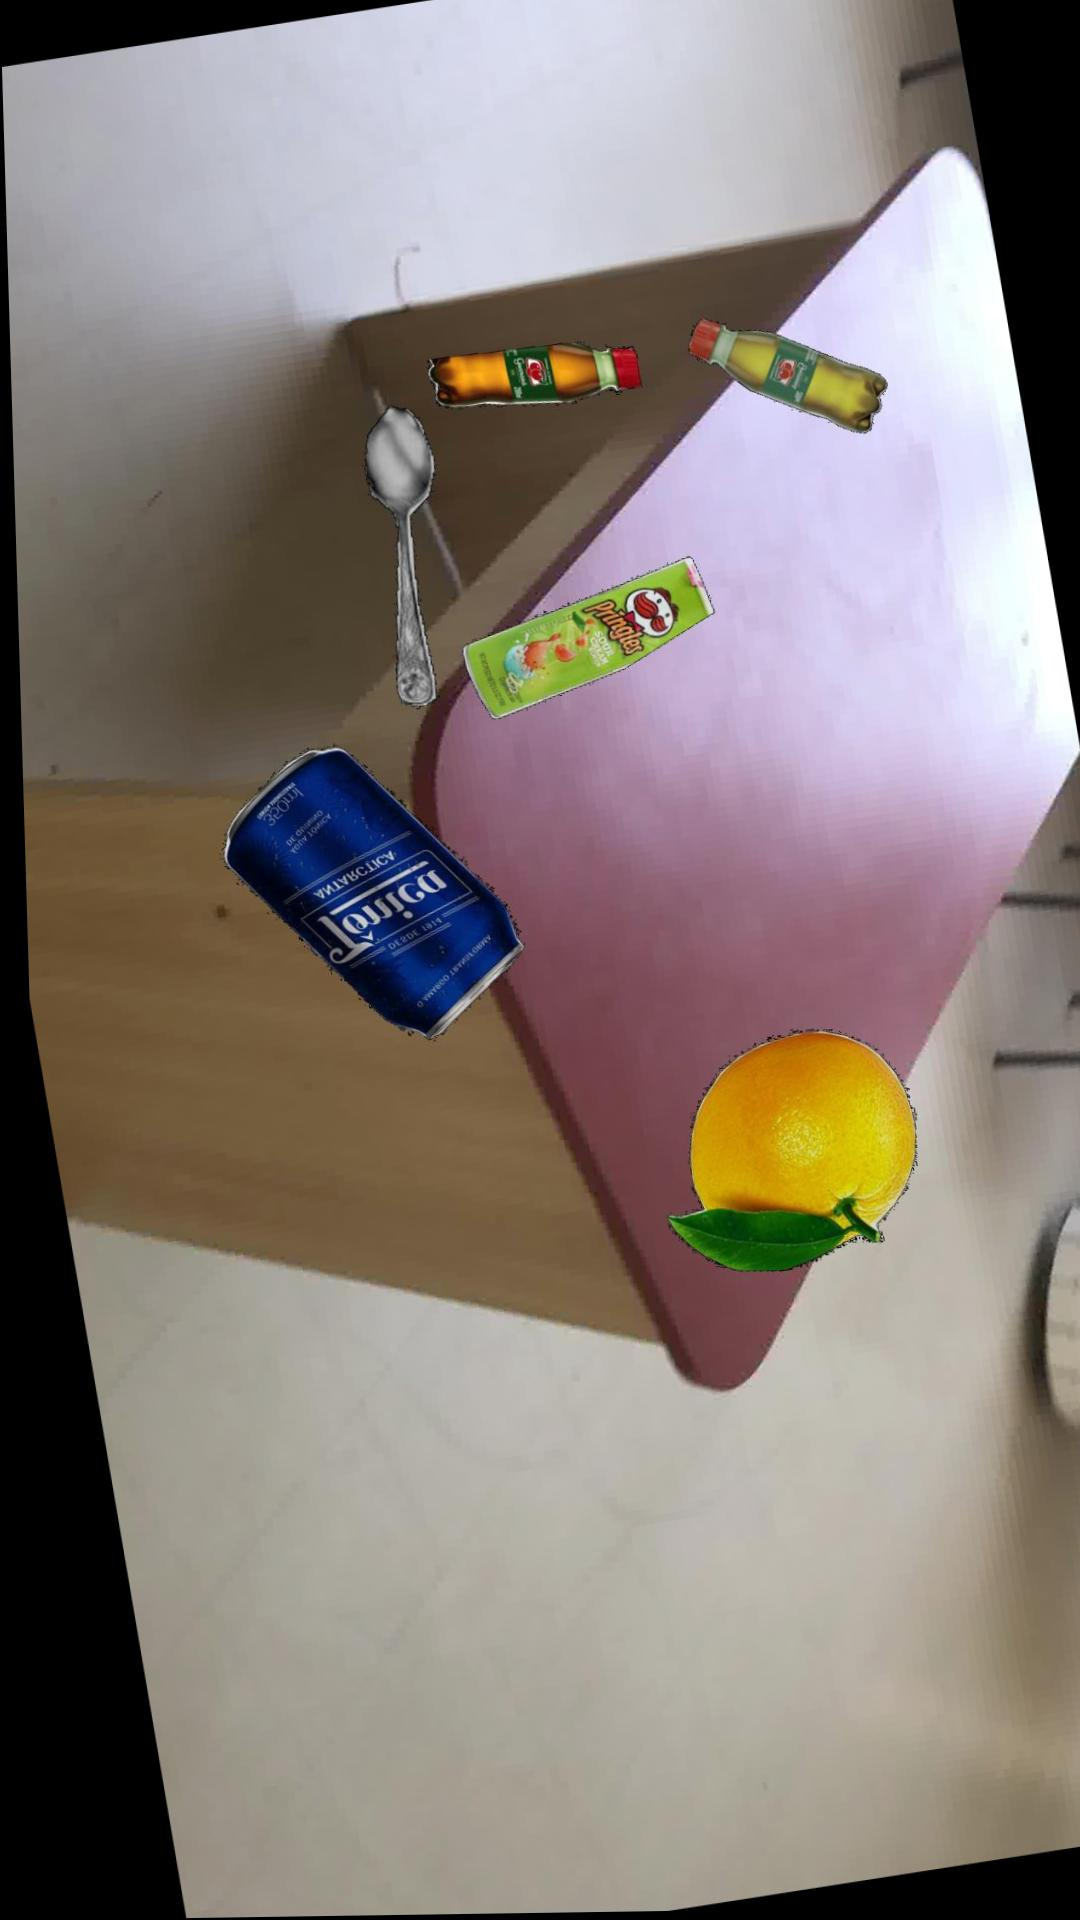guarana: (684, 319, 884, 434), (423, 342, 637, 407)
orange: (658, 1030, 909, 1273)
pringles: (456, 556, 709, 719)
spoon: (360, 405, 431, 707)
tonic: (216, 746, 517, 1039)
